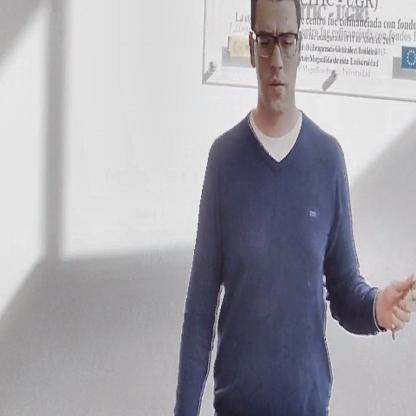knife: (389, 235, 416, 344)
